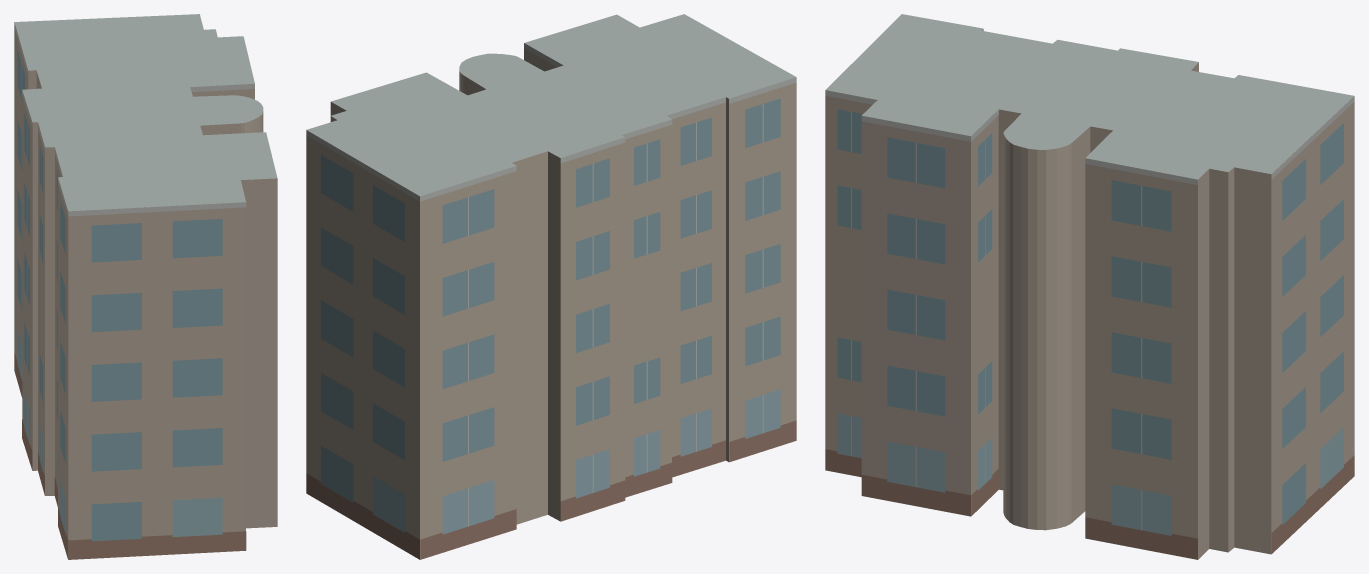
The model's file is survey-upis-32803537.glb.
The picture shows the model from 3 angles, left to right: view 1: azimuth 30°, elevation 25°; view 2: azimuth 150°, elevation 25°; view 3: azimuth 270°, elevation 25°; orthographic projection. The views are drawn at different scales.
Visible parts, largest first — view 1: survey-upis-32803537.tmp; view 2: survey-upis-32803537.tmp; view 3: survey-upis-32803537.tmp.
Part boxes in pixels (box(x1,y1,x2,y2)): survey-upis-32803537.tmp: box(14, 14, 277, 559); survey-upis-32803537.tmp: box(306, 14, 796, 559); survey-upis-32803537.tmp: box(825, 14, 1354, 559).
Bounding box in the file's own units: 15.52 × 16.6 × 20.95.
